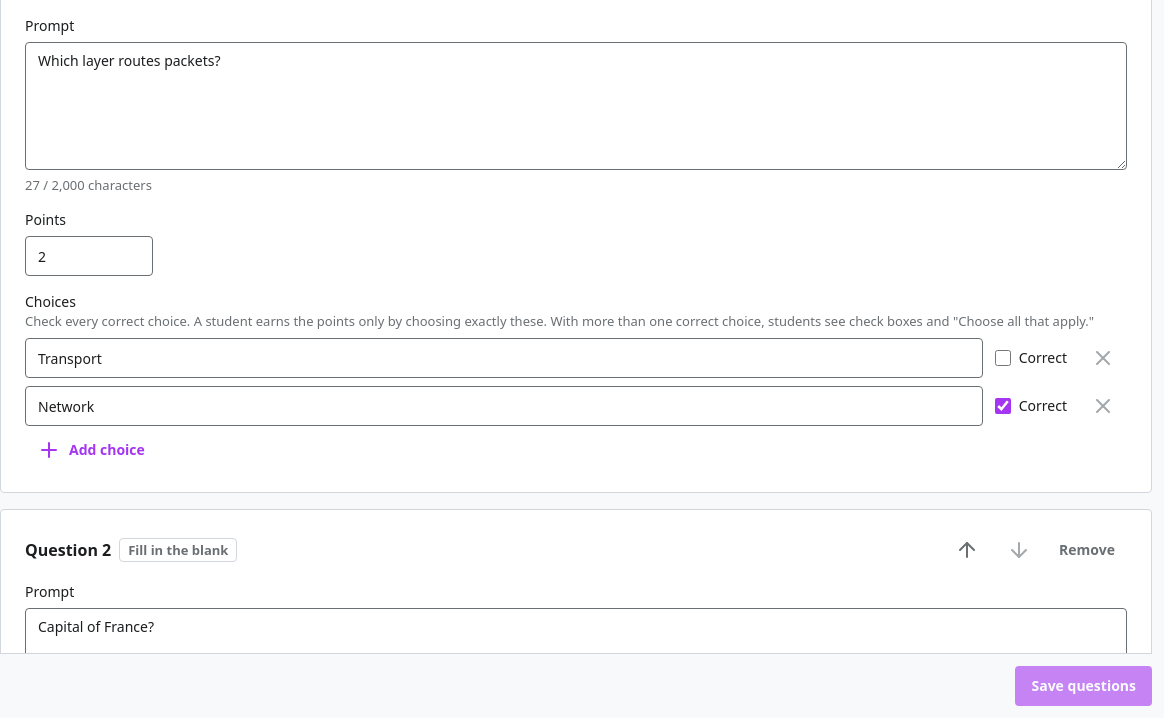
Test: maps a server items[0].choices error to that card and focuses its first invalid control
(page scrolled)
Expected: the heading "Question 2" is shown, [25, 538, 111, 562]
Replace the text in the field named "Choice 1" with "Link". click: coordinates (504, 358)
box: [25, 338, 983, 378]
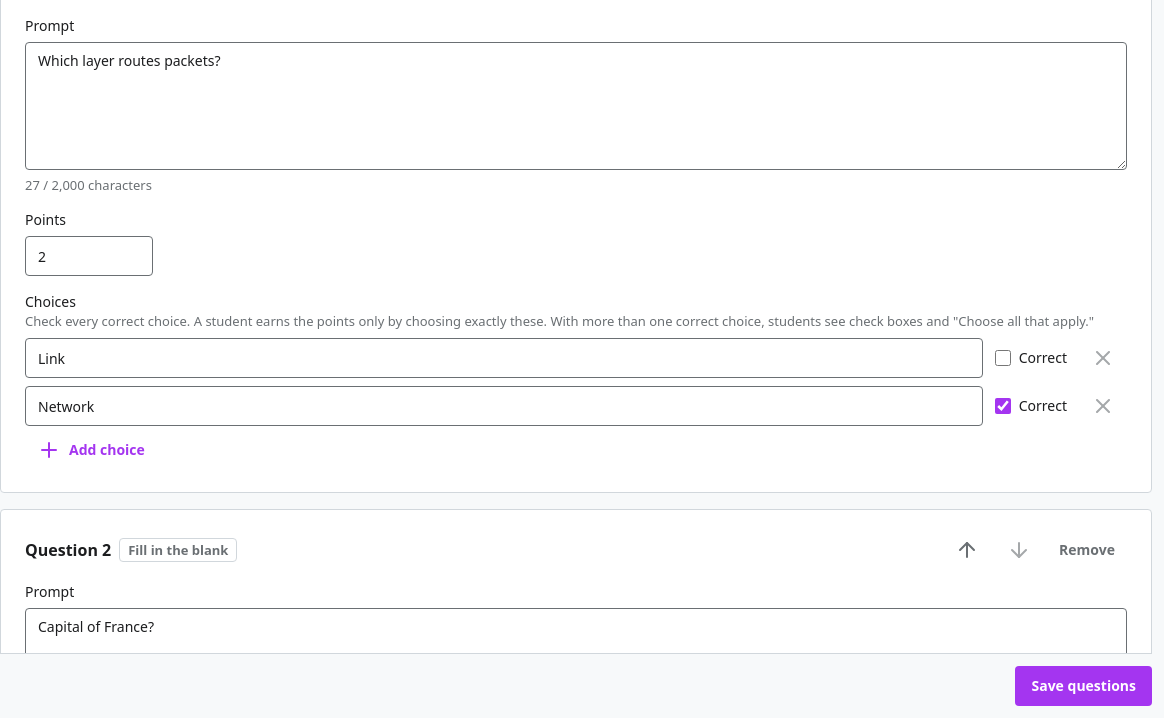
Click the button "Save questions". click: coordinates (1084, 686)
box: [1016, 666, 1152, 706]
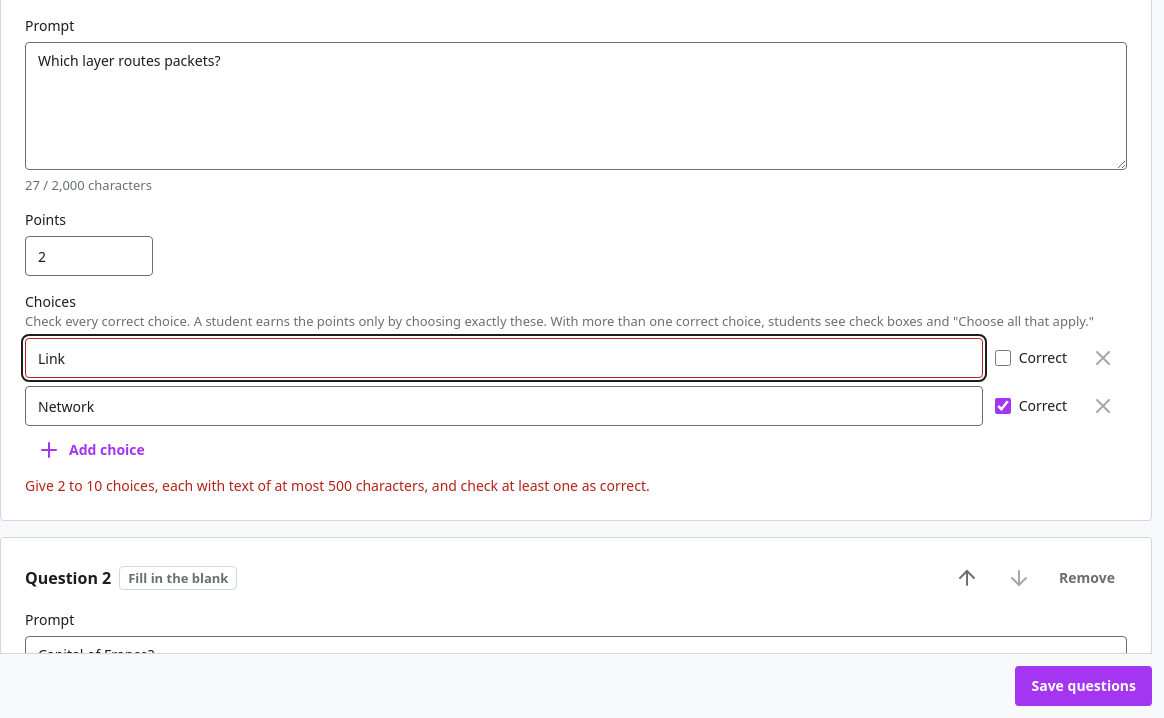
Result: the text "Give 2 to 10 choices" is shown at [25, 476, 650, 495]
